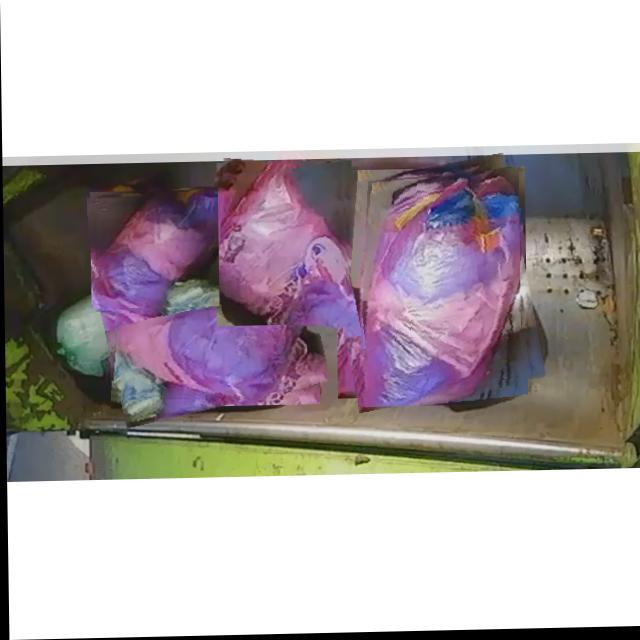other_trashbag: (356, 171, 519, 409), (111, 263, 305, 399), (215, 169, 347, 326), (93, 188, 218, 308)
